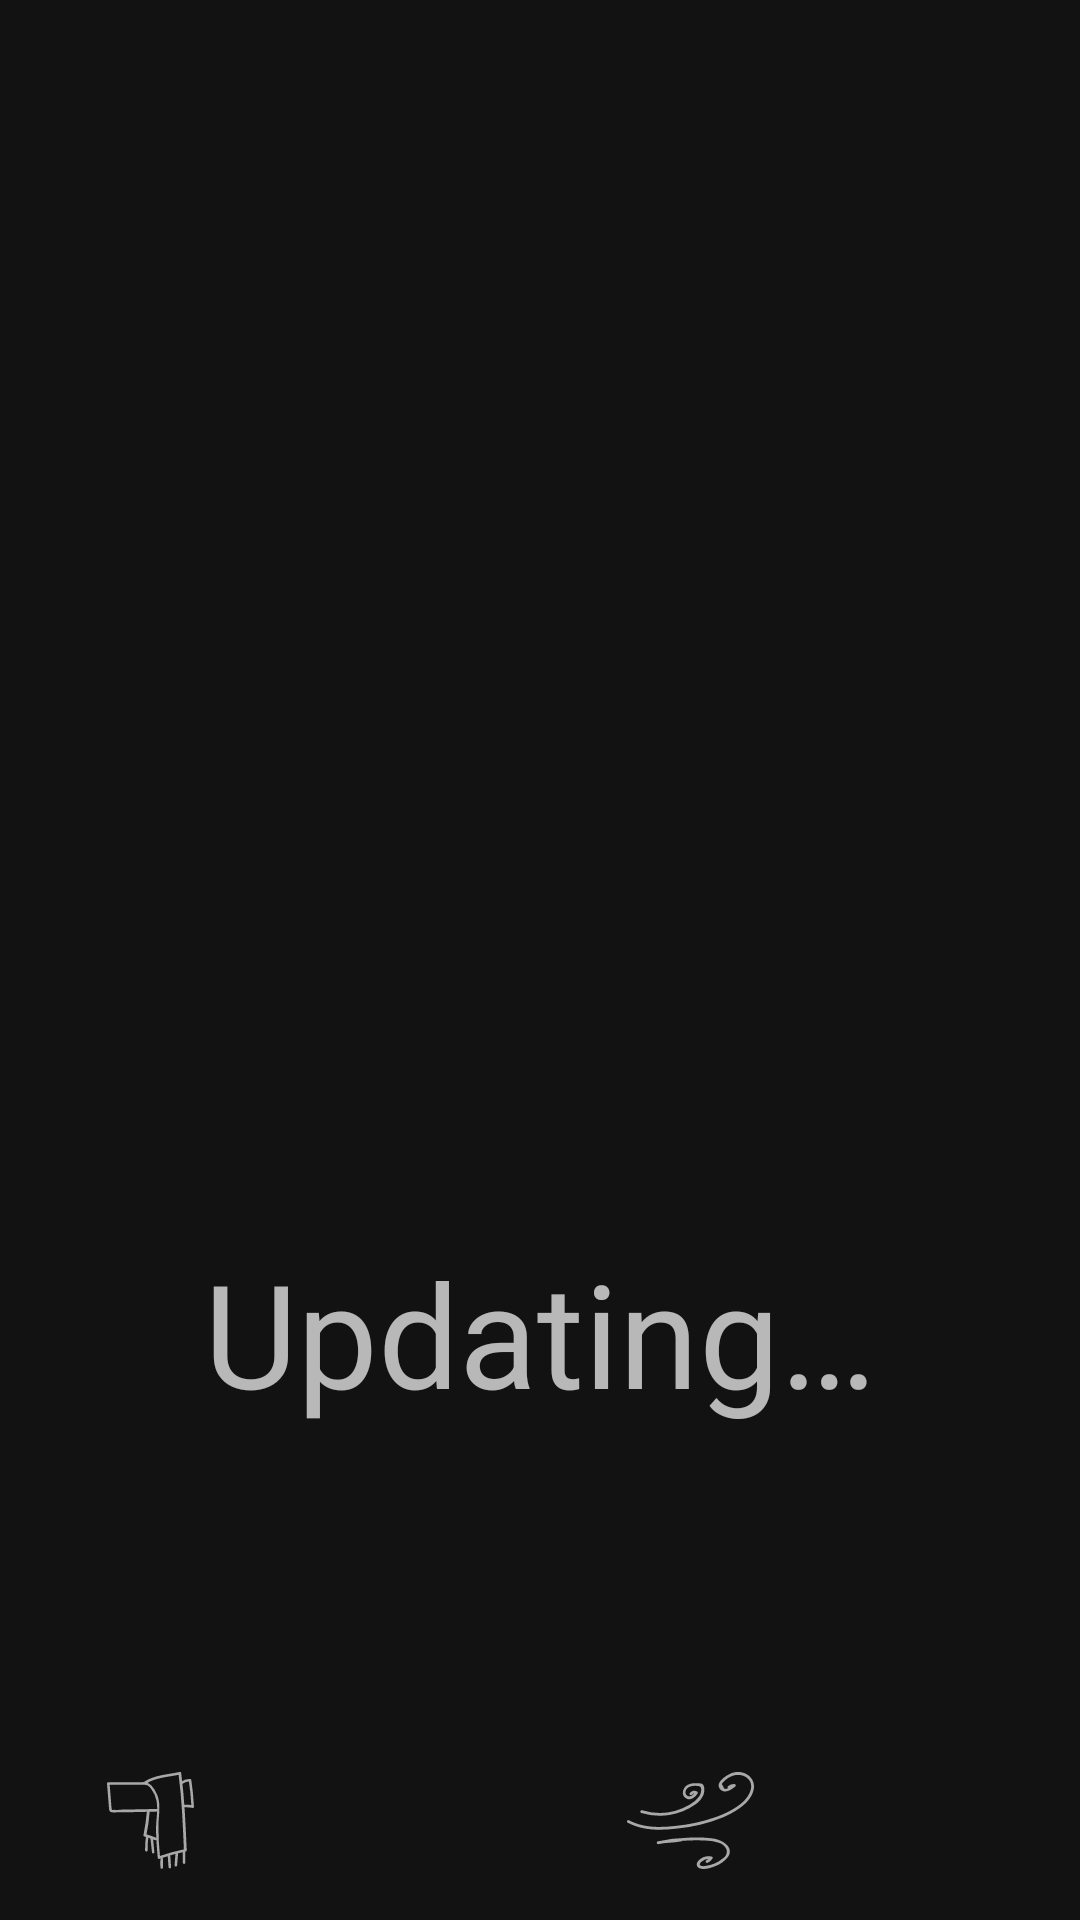

Locate icon controls on the screen. Image size 1080px×1920px, boxes as (x1, y1, x2, y2).
Feels like: (107, 1772, 194, 1869)
speed of myWind: (627, 1772, 754, 1869)
